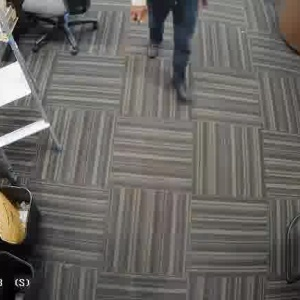person: (131, 0, 201, 109)
